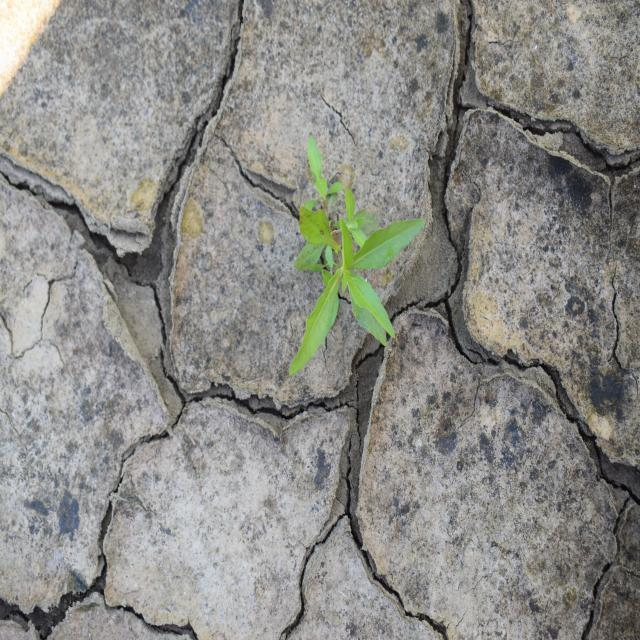Eclipta: (287, 134, 428, 379)
